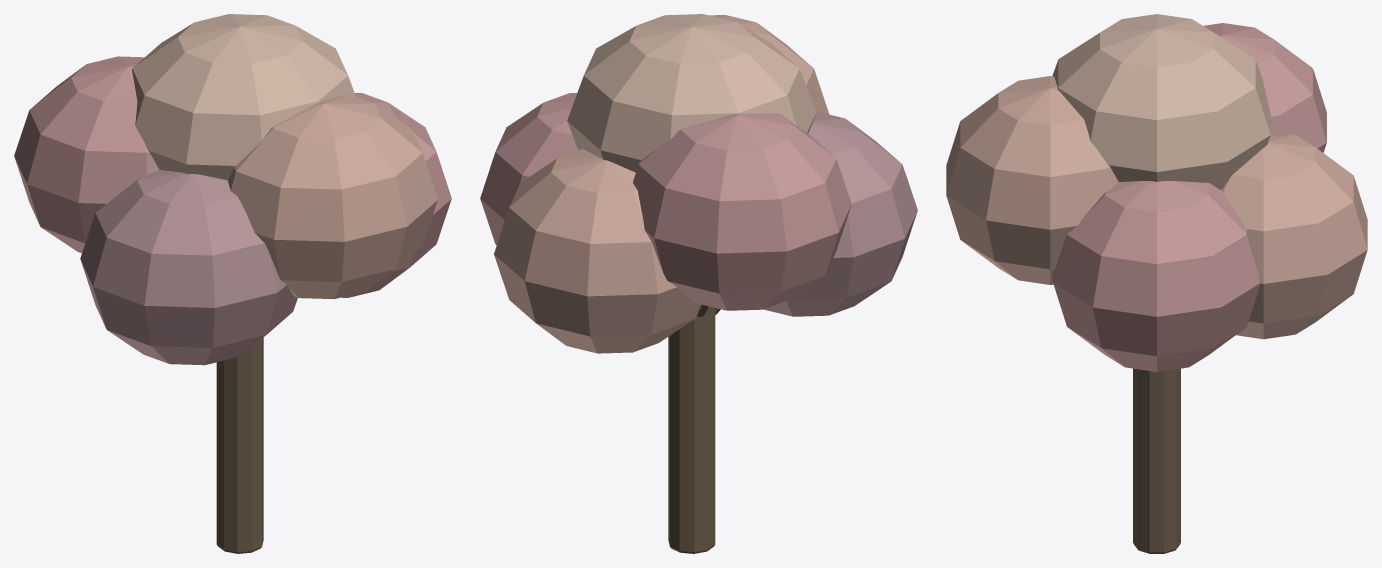
The model's file is petal-tree.glb.
3 renders of one model, left to right at view 1: azimuth 30°, elevation 25°; view 2: azimuth 150°, elevation 25°; view 3: azimuth 270°, elevation 25°, orthographic.
Visible parts, largest first — view 1: petal-tree_Discovery_Mesh; view 2: petal-tree_Discovery_Mesh; view 3: petal-tree_Discovery_Mesh.
Part boxes in pixels (bbox=[...]): petal-tree_Discovery_Mesh: bbox=[14, 14, 451, 553]; petal-tree_Discovery_Mesh: bbox=[480, 14, 917, 553]; petal-tree_Discovery_Mesh: bbox=[946, 14, 1367, 553].
Bounding box in the file's own units: 2.92 × 3.81 × 2.82.
